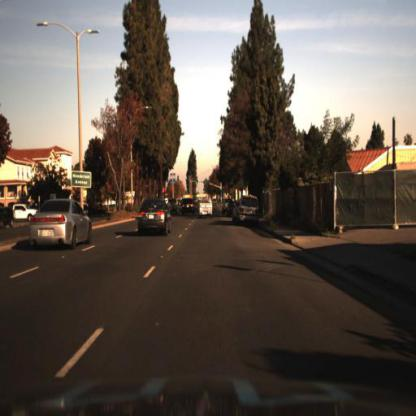car: (29, 198, 93, 256), (137, 198, 177, 243), (235, 196, 260, 225), (13, 201, 40, 226), (182, 198, 199, 222), (198, 198, 214, 223), (167, 197, 181, 218)
